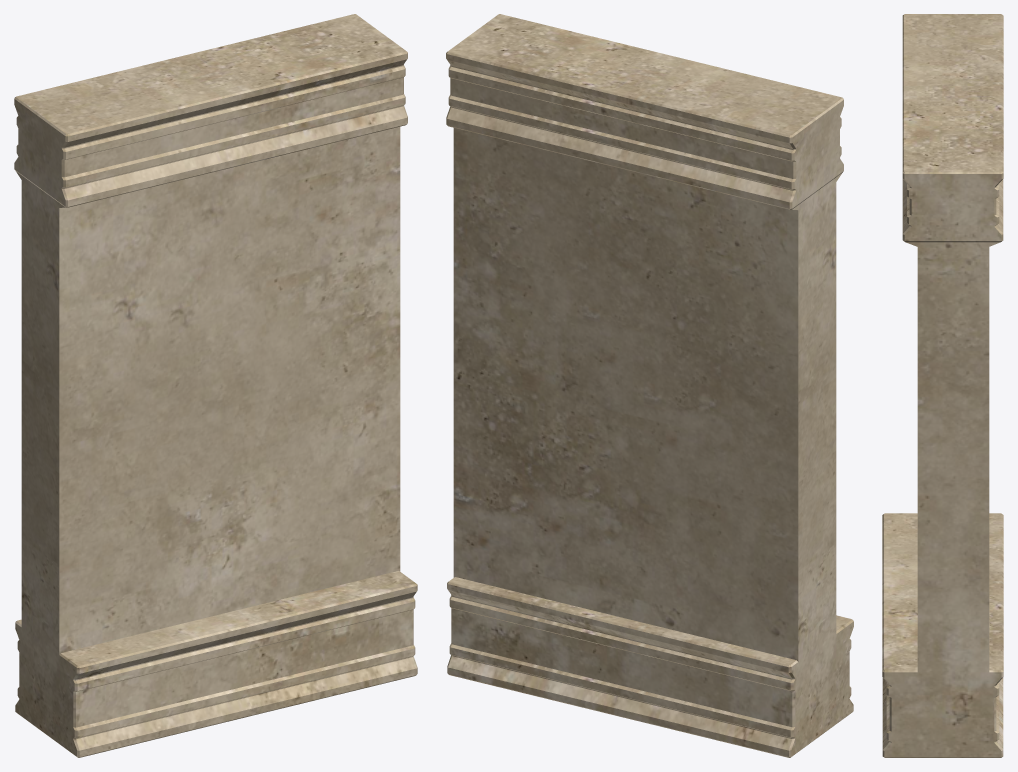
The model's file is wall.FBX.
3 renders of one model, left to right at view 1: azimuth 30°, elevation 25°; view 2: azimuth 150°, elevation 25°; view 3: azimuth 270°, elevation 25°, orthographic. The views are drawn at different scales.
Parts seen in each view (by area): view 1: column_L043; view 2: column_L043; view 3: column_L043.
Part boxes in pixels (left/top/right/bottom): column_L043: left=14, top=14, right=417, bottom=757; column_L043: left=446, top=14, right=853, bottom=757; column_L043: left=882, top=14, right=1003, bottom=757.
Size of the model in its own units: 201 by 346 by 64.79.
